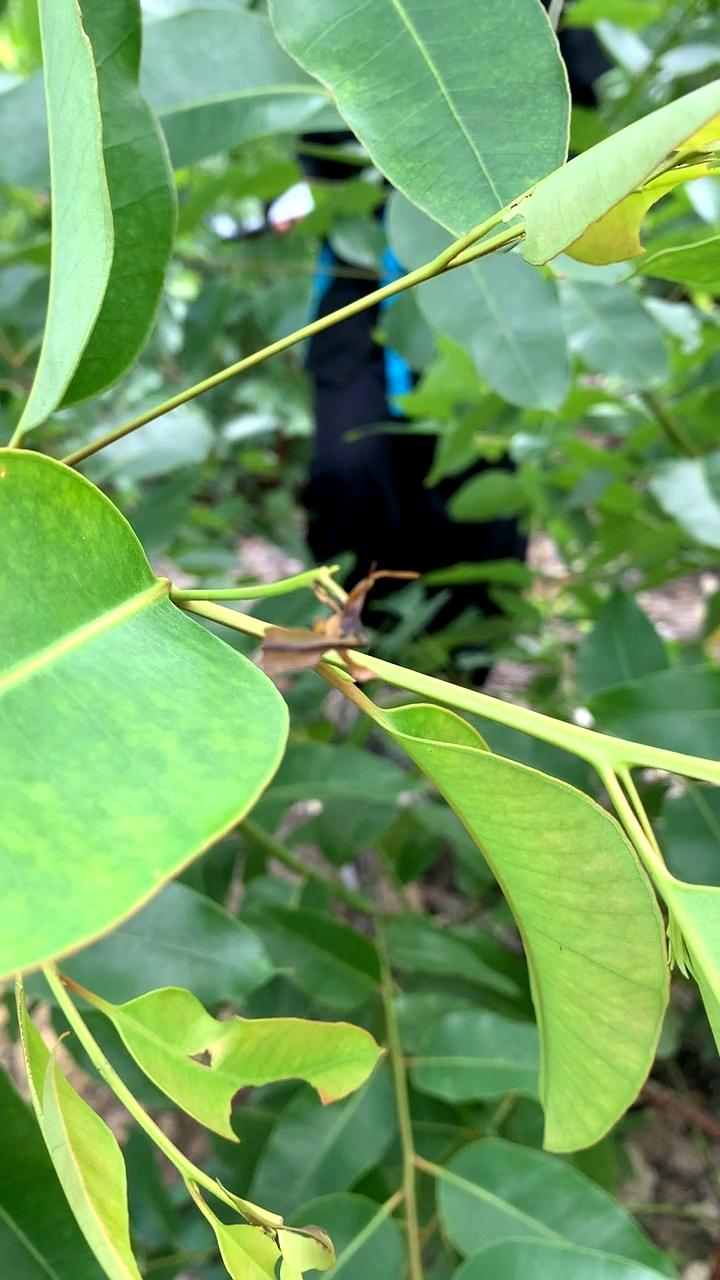Helopeltis-Withered Sprout: (256, 548, 429, 717)
